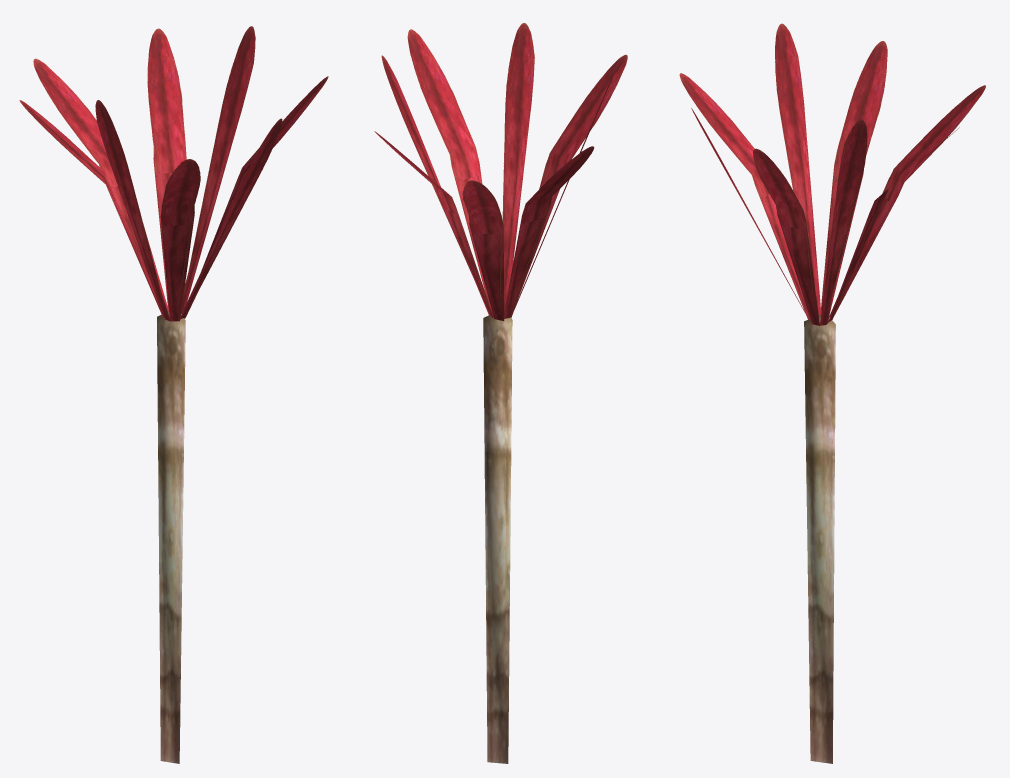
File: flow_tatt_funnel_lrg_l2.fbx
3 views of the same model, side by side, from view 1: azimuth 30°, elevation 25°; view 2: azimuth 150°, elevation 25°; view 3: azimuth 270°, elevation 25° (orthographic).
Visible parts, largest first — view 1: mesh_node; view 2: mesh_node; view 3: mesh_node.
Boxes of the visible parts, left/top/right/bottom form: mesh_node: left=19, top=26, right=328, bottom=763; mesh_node: left=374, top=23, right=627, bottom=763; mesh_node: left=679, top=23, right=985, bottom=763.
Size of the model in its own units: 0.5658 by 1.43 by 0.6093.
